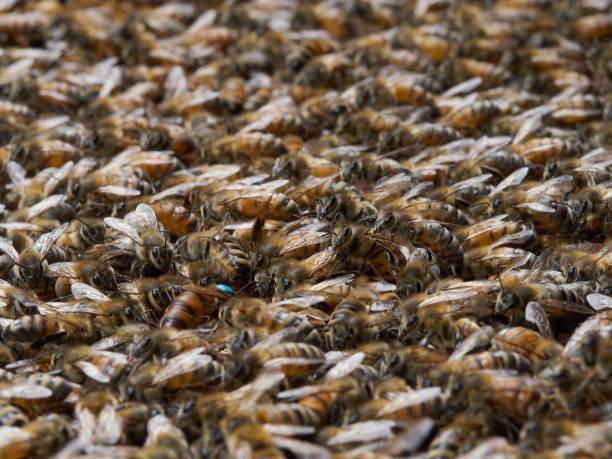Queen-Bee: (146, 277, 237, 343)
worker-bee: (373, 211, 463, 270)
